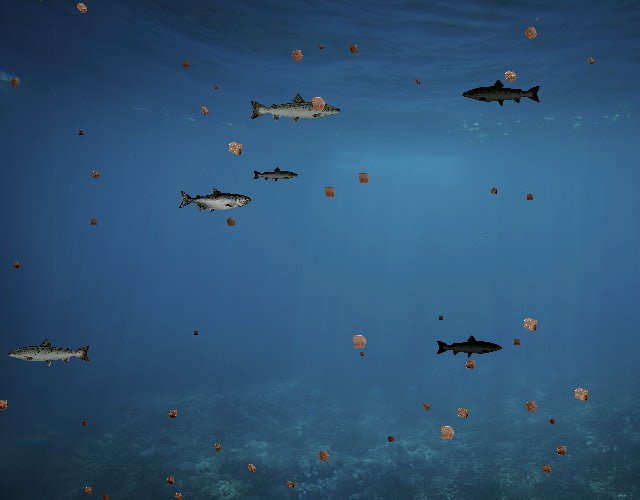Fish: (249, 93, 343, 127), (6, 337, 92, 368), (462, 78, 543, 107), (178, 188, 251, 214), (435, 335, 503, 359), (253, 166, 300, 183)
Pellet: (518, 20, 544, 46), (498, 64, 523, 89), (70, 0, 92, 19), (344, 40, 362, 58), (80, 482, 96, 498), (486, 184, 501, 198), (546, 415, 559, 428), (210, 81, 220, 92)
